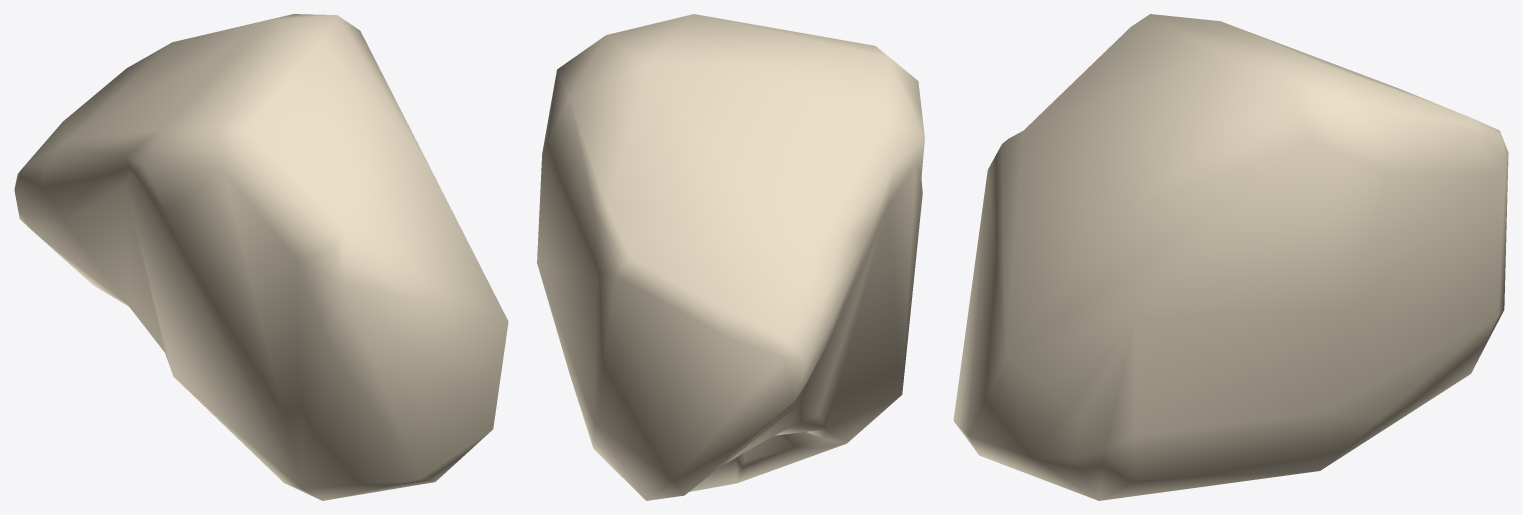
Rendered from triquetrum-bone-r.glb.
3 renders of one model, left to right at view 1: azimuth 30°, elevation 25°; view 2: azimuth 150°, elevation 25°; view 3: azimuth 270°, elevation 25°, orthographic. The views are drawn at different scales.
Parts seen in each view (by area): view 1: Triquetrum bone.r; view 2: Triquetrum bone.r; view 3: Triquetrum bone.r.
Boxes of the visible parts, left/top/right/bottom form: Triquetrum bone.r: left=14, top=14, right=508, bottom=500; Triquetrum bone.r: left=537, top=14, right=924, bottom=500; Triquetrum bone.r: left=953, top=14, right=1508, bottom=500.
Size of the model in its own units: 0.0111 by 0.0143 by 0.0159.
